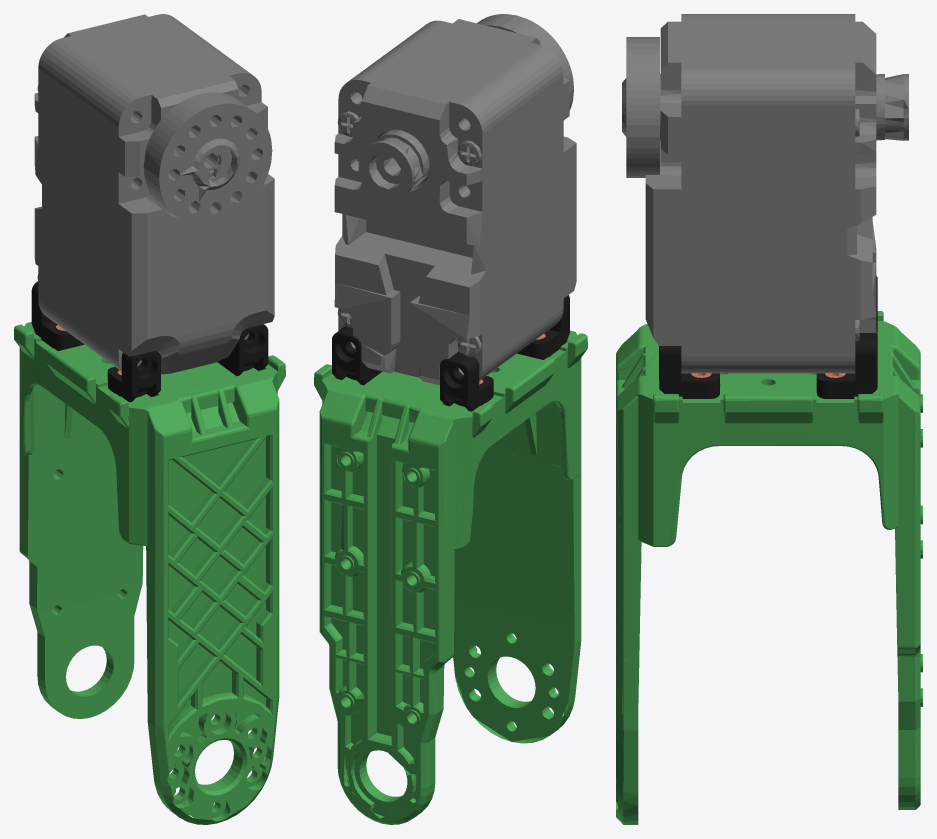
File: bone33.DAE
3 views of the same model, side by side, from view 1: azimuth 30°, elevation 25°; view 2: azimuth 150°, elevation 25°; view 3: azimuth 270°, elevation 25° (orthographic). The views are drawn at different scales.
Visible parts, largest first — view 1: DRB-0008, through_all_screw_holes, screw_holes, C3312100017_L_TYPE_C_1_NUT-1-surface1 (×3); view 2: DRB-0008, through_all_screw_holes, C3312100017_L_TYPE_C_1_NUT-1-surface1 (×3), O3.0__3__Diameter_Hole1, screw_holes; view 3: through_all_screw_holes, DRB-0008, screw_holes, C3312100017_L_TYPE_C_1_NUT-1-surface1 (×2), O3.0__3__Diameter_Hole1.
Part boxes in pixels (box(x1,y1,x2,y2)): DRB-0008: box(14, 322, 285, 824); through_all_screw_holes: box(34, 14, 274, 374); screw_holes: box(143, 92, 272, 225); C3312100017_L_TYPE_C_1_NUT-1-surface1 (×3): box(31, 281, 268, 402); DRB-0008: box(314, 330, 587, 824); through_all_screw_holes: box(334, 19, 576, 385); C3312100017_L_TYPE_C_1_NUT-1-surface1 (×3): box(332, 295, 569, 411); O3.0__3__Diameter_Hole1: box(358, 130, 429, 200); screw_holes: box(477, 14, 573, 110); through_all_screw_holes: box(645, 14, 876, 373); DRB-0008: box(616, 311, 922, 824); screw_holes: box(622, 37, 660, 177); C3312100017_L_TYPE_C_1_NUT-1-surface1 (×2): box(659, 333, 877, 398); O3.0__3__Diameter_Hole1: box(876, 74, 908, 140).
Size of the model in its own units: 28 by 41.3 by 115.
